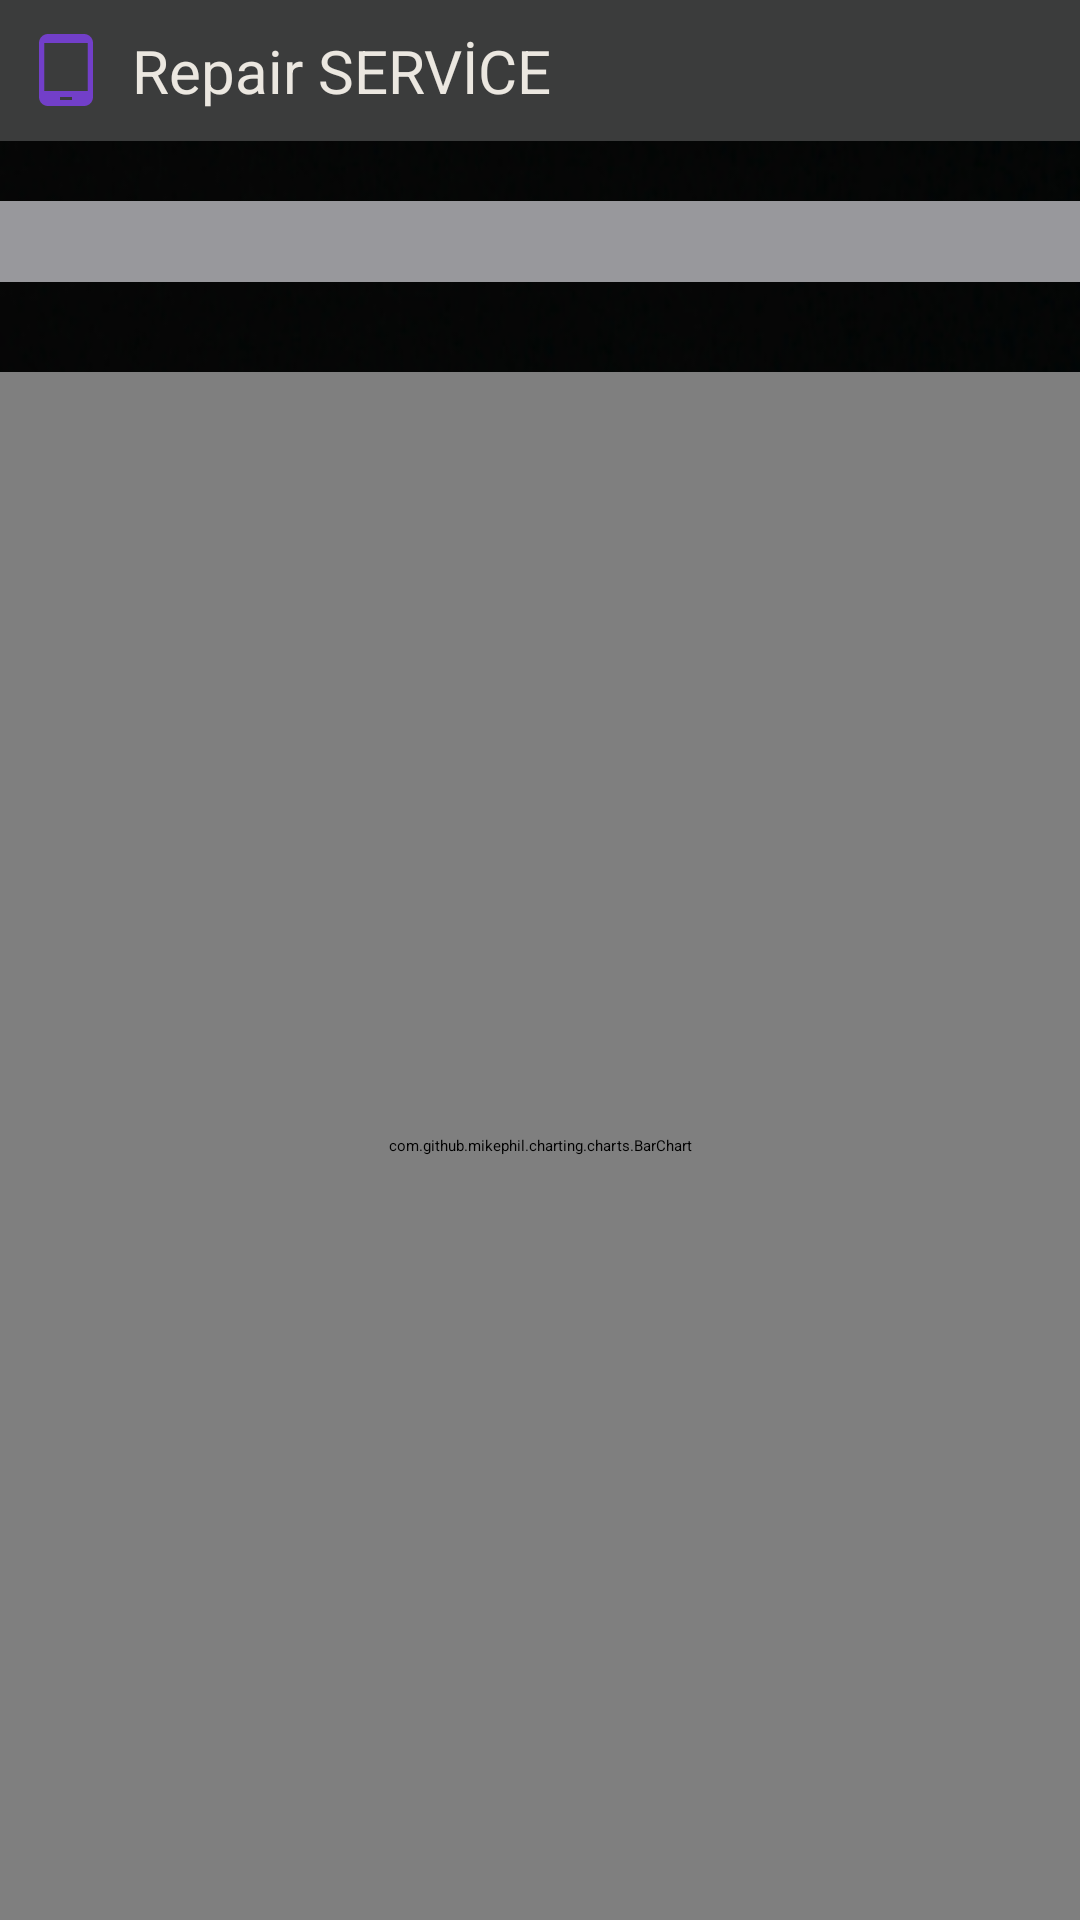

Where icons sit on this 1080w x 1920h app screen, as (x1, y1, x2, y2):
tablet android: (39, 34, 93, 106)
